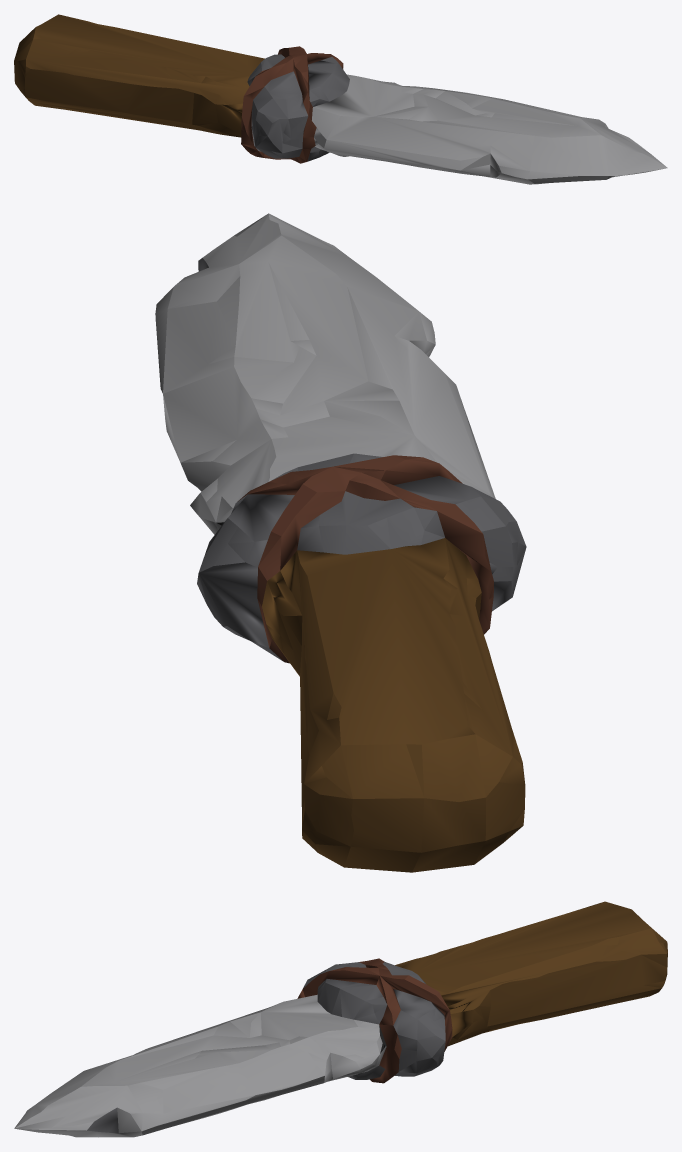
The model's file is stone_knife.fbx.
3 renders of one model, top to bottom at view 1: azimuth 30°, elevation 25°; view 2: azimuth 150°, elevation 25°; view 3: azimuth 270°, elevation 25°, orthographic. The views are drawn at different scales.
Parts seen in each view (by area): view 1: tripo_node_84b5f5ec-e6ec-49da-ac71-a6f2dabeead3; view 2: tripo_node_84b5f5ec-e6ec-49da-ac71-a6f2dabeead3; view 3: tripo_node_84b5f5ec-e6ec-49da-ac71-a6f2dabeead3.
Part boxes in pixels (x1=…): tripo_node_84b5f5ec-e6ec-49da-ac71-a6f2dabeead3: x1=14, y1=14, x2=667, y2=184; tripo_node_84b5f5ec-e6ec-49da-ac71-a6f2dabeead3: x1=155, y1=213, x2=526, y2=872; tripo_node_84b5f5ec-e6ec-49da-ac71-a6f2dabeead3: x1=14, y1=901, x2=667, y2=1137.
Size of the model in its own units: 76.71 by 18.3 by 101.
Materials: 1 (1 with a texture image).
